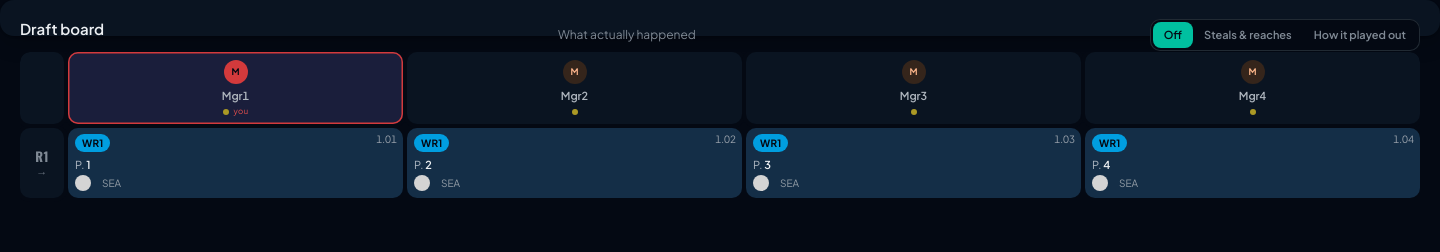
it: CompletedDraftBoard steals & reaches › tints from draft-time ADP: taken after it is a steal (+), before it is a reach (minus)
Click the button "Steals & reaches": (1248, 35) [1193,22,1303,48]
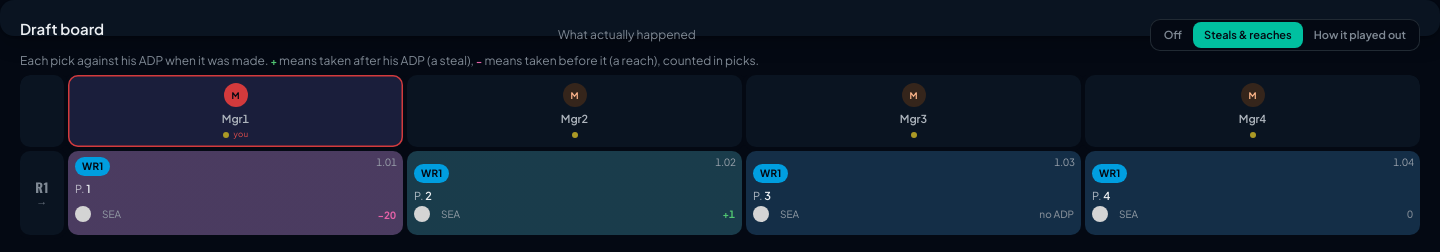
Check: the element with class "board" is shown
Check: the button with class "cell" shows "−20", box [68,151,403,235]
Check: the button with class "cell" shows "+1", box [407,151,742,235]
